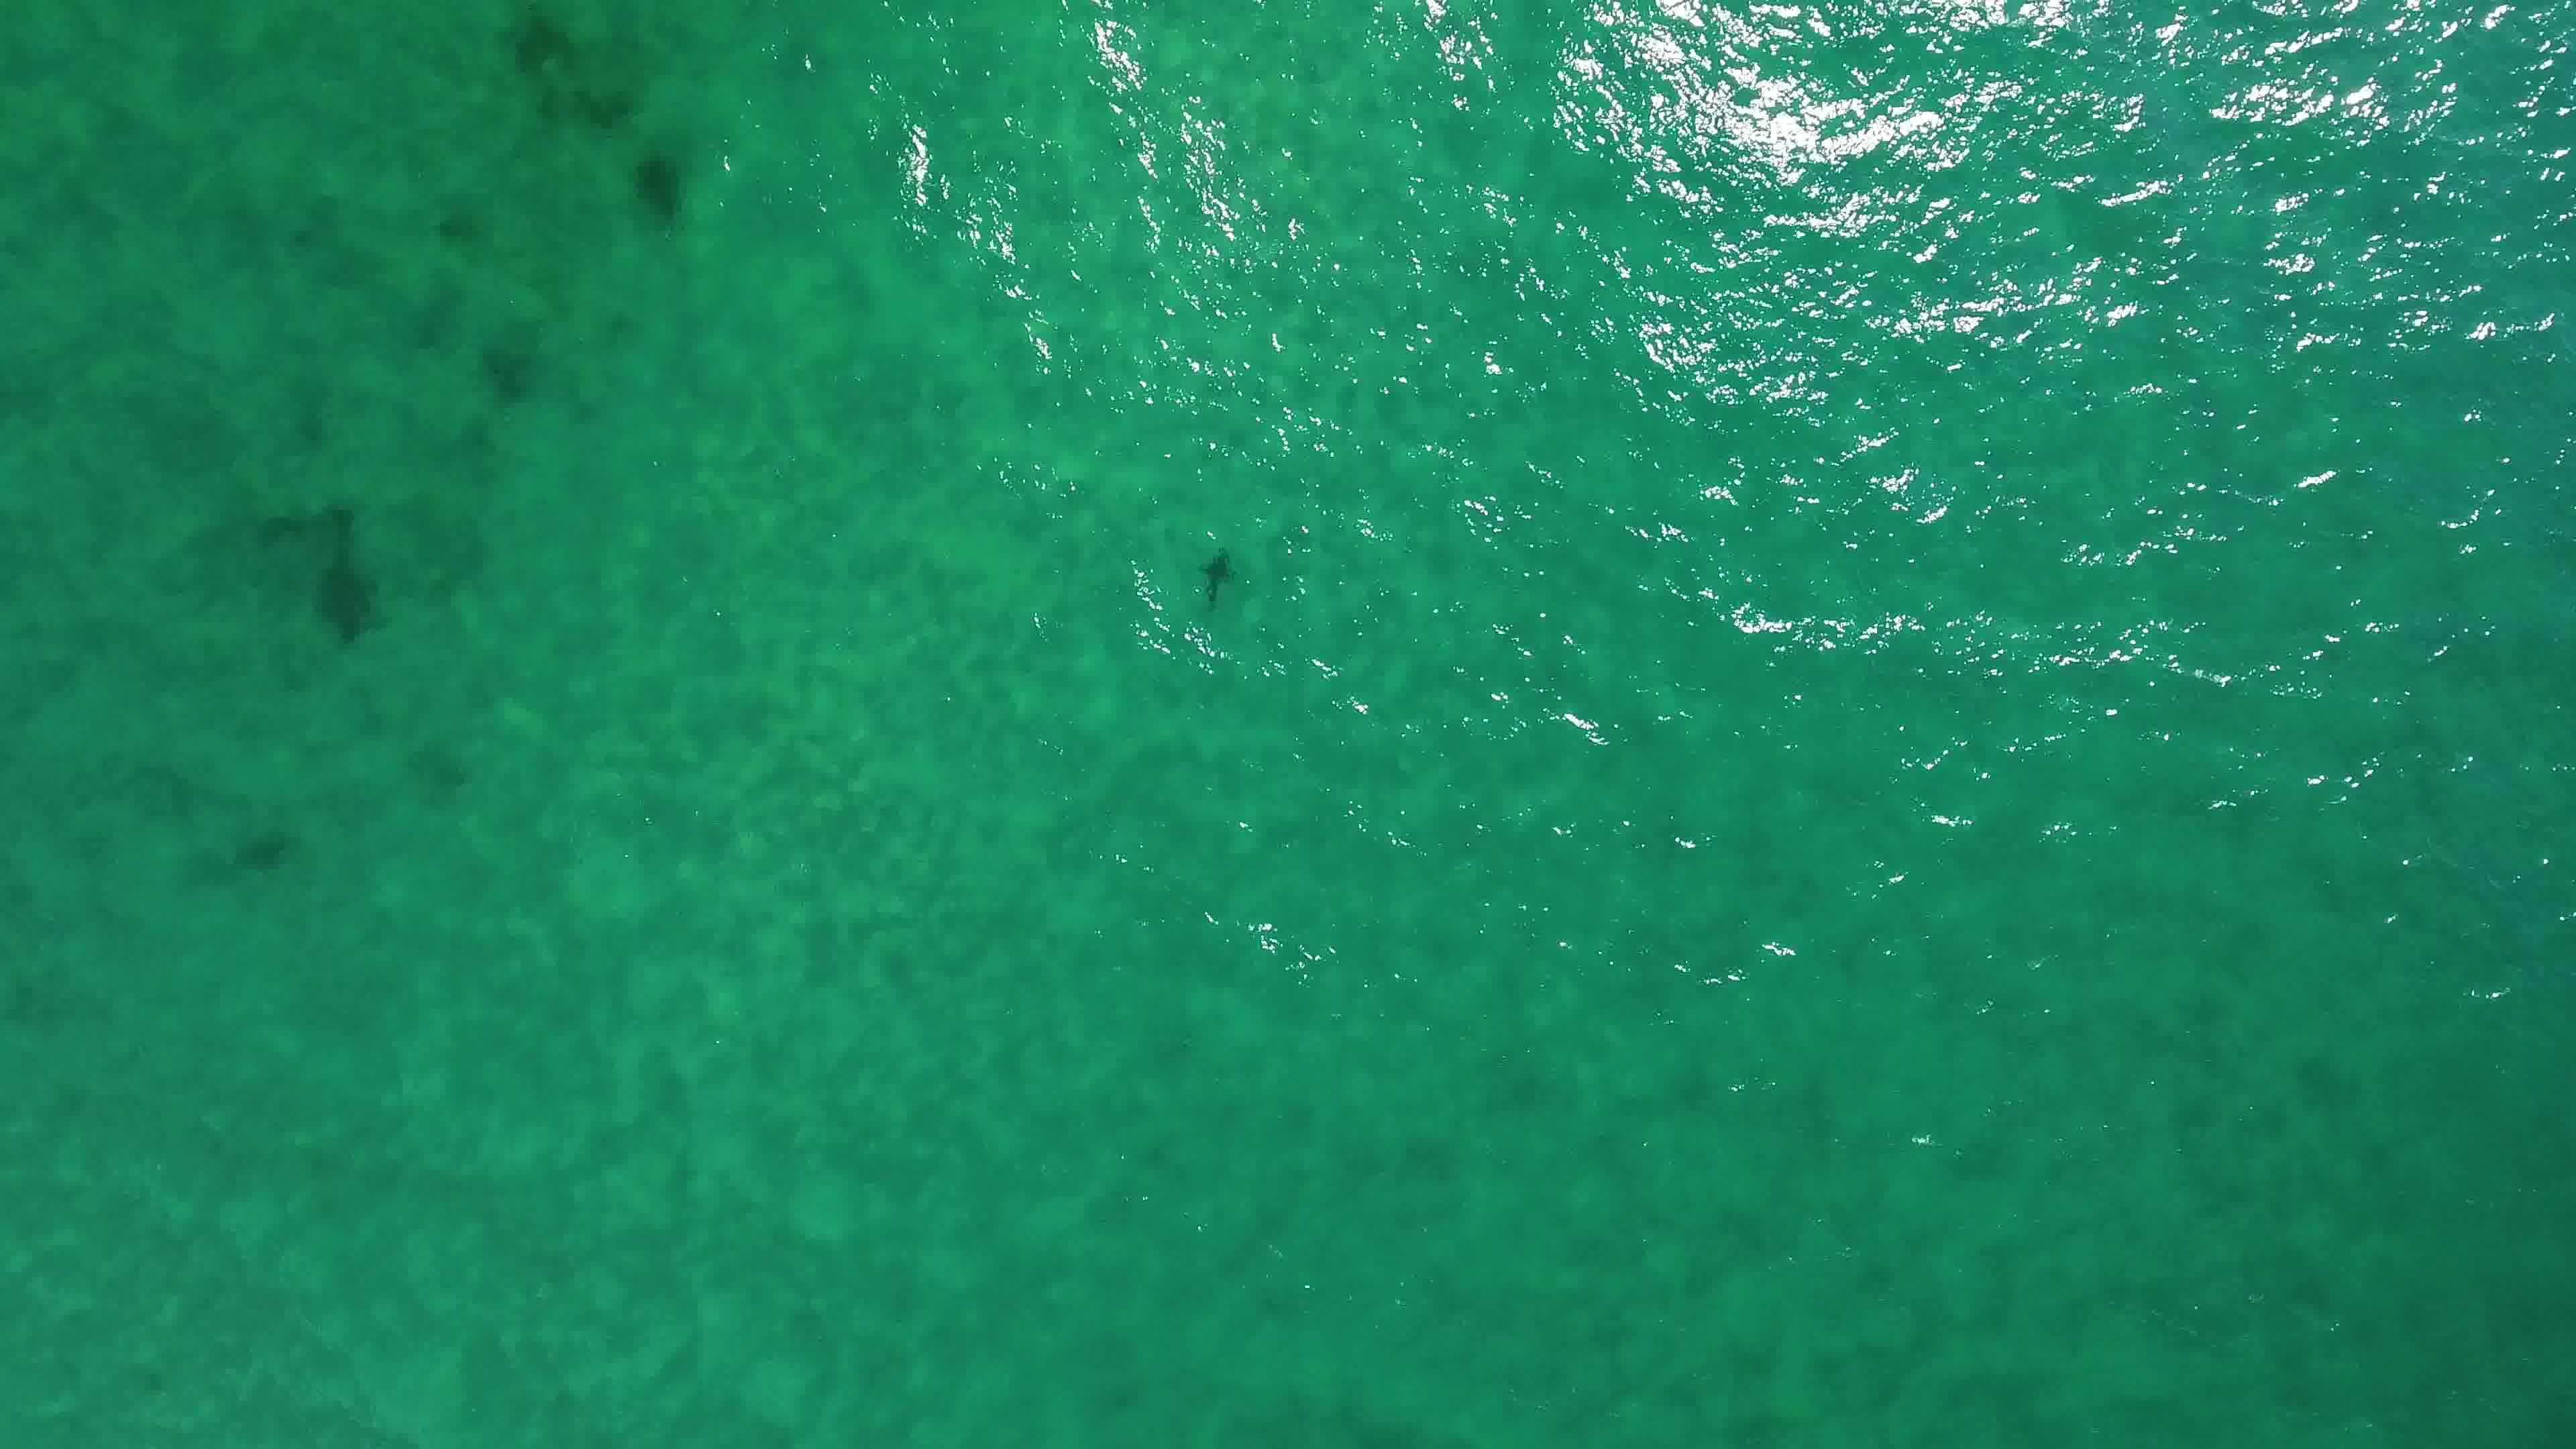shark: (1191, 538, 1244, 612)
